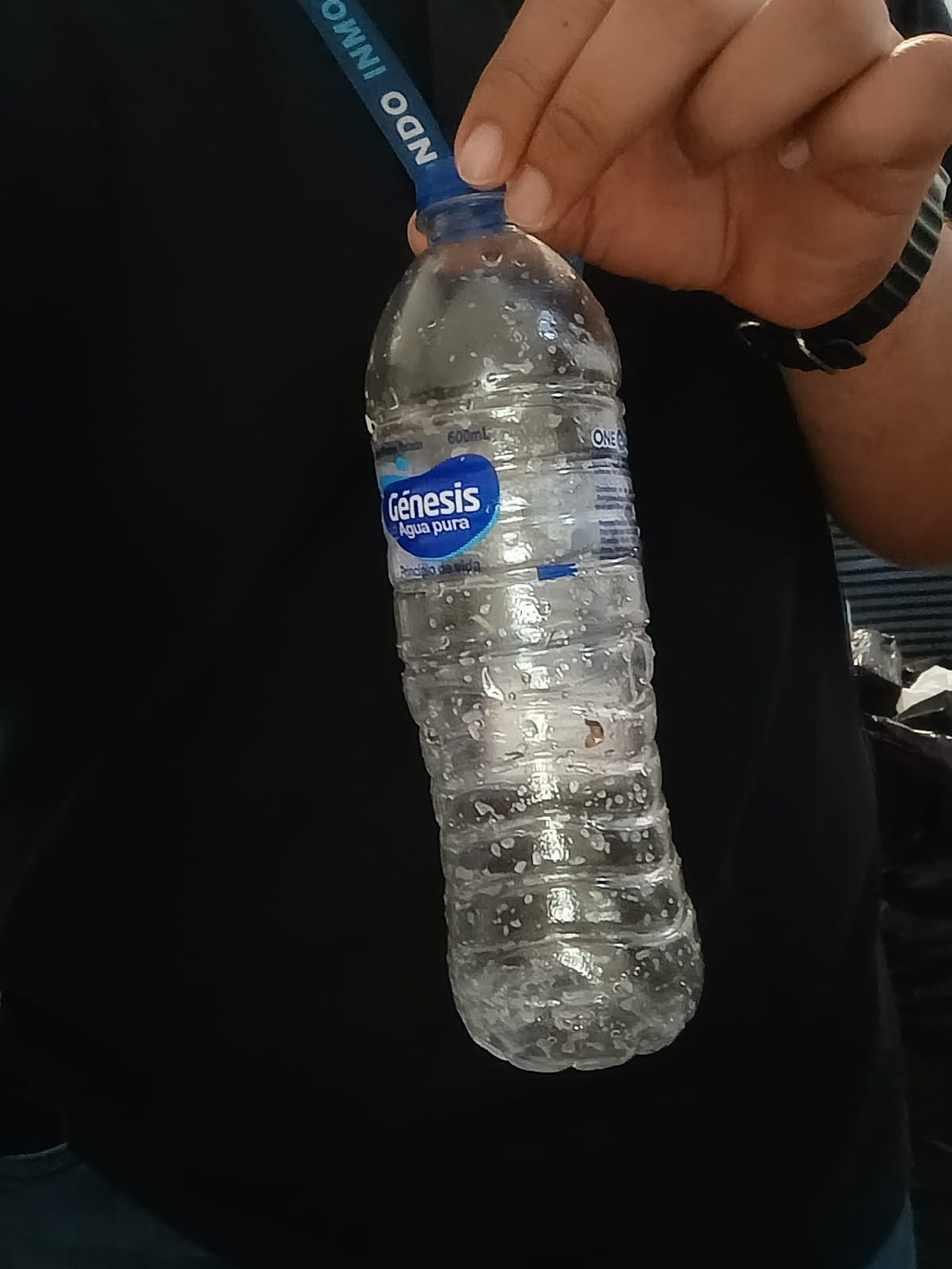Plastico: (363, 154, 703, 1073)
